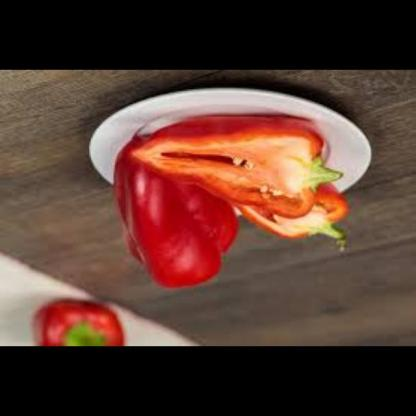bell pepper: (110, 129, 240, 295), (132, 116, 338, 219), (232, 186, 354, 252), (27, 296, 127, 347)
